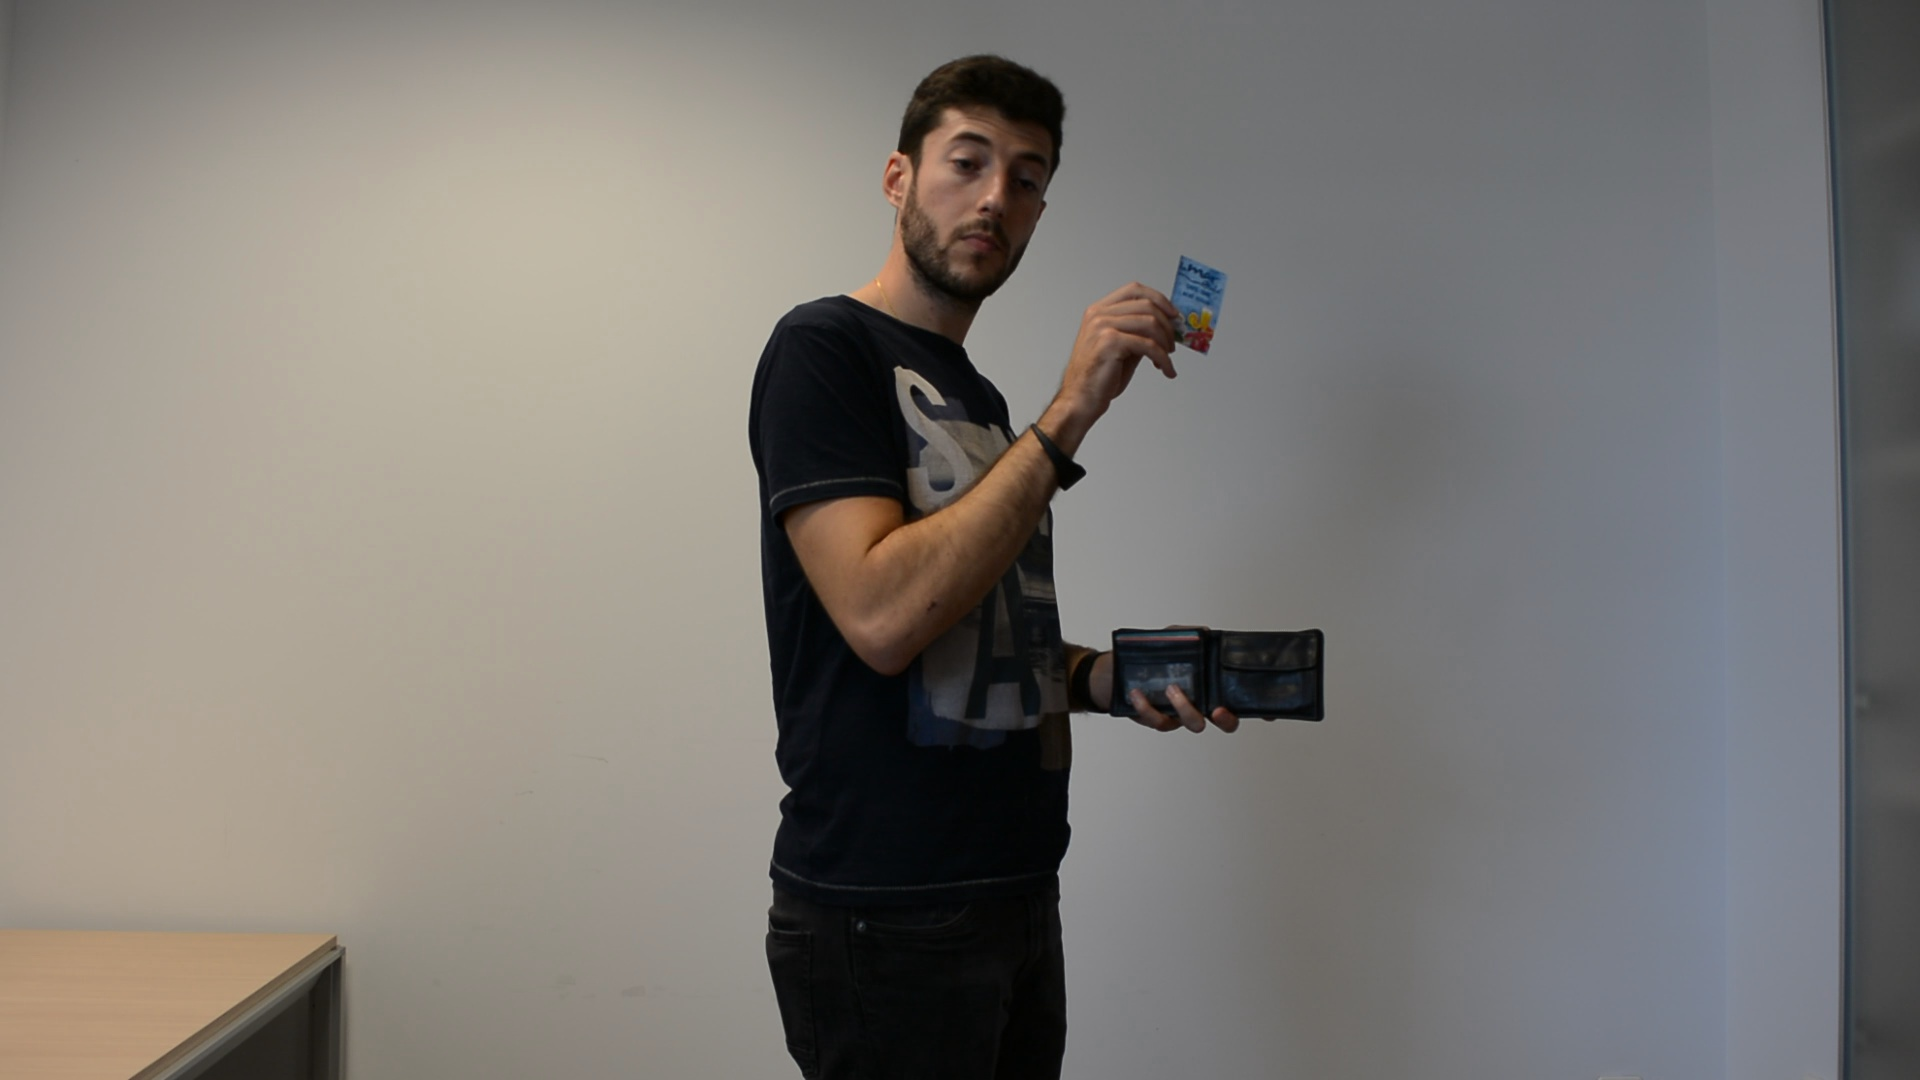monedero: (1109, 626, 1329, 724)
tarjeta: (1164, 251, 1232, 357)
